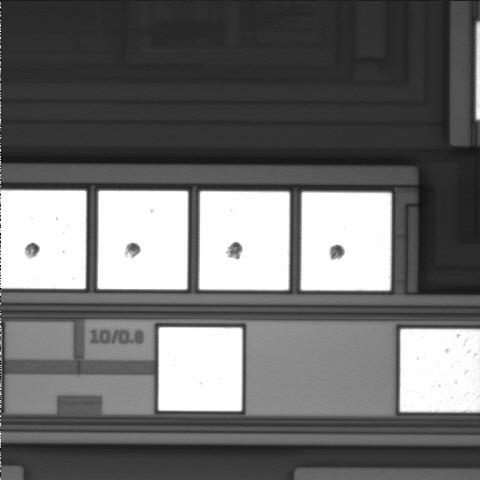pad: (199, 191, 290, 290), (301, 192, 391, 291), (98, 191, 188, 289), (159, 327, 242, 411)
